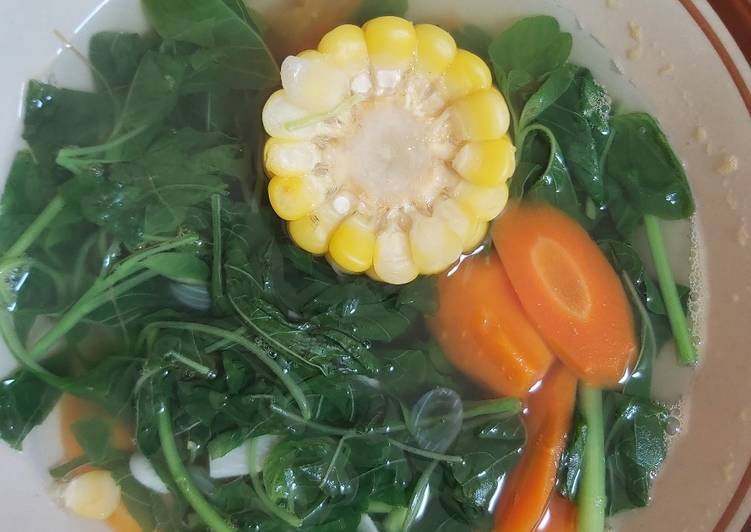Sayur Bayam: (66, 60, 695, 524)
